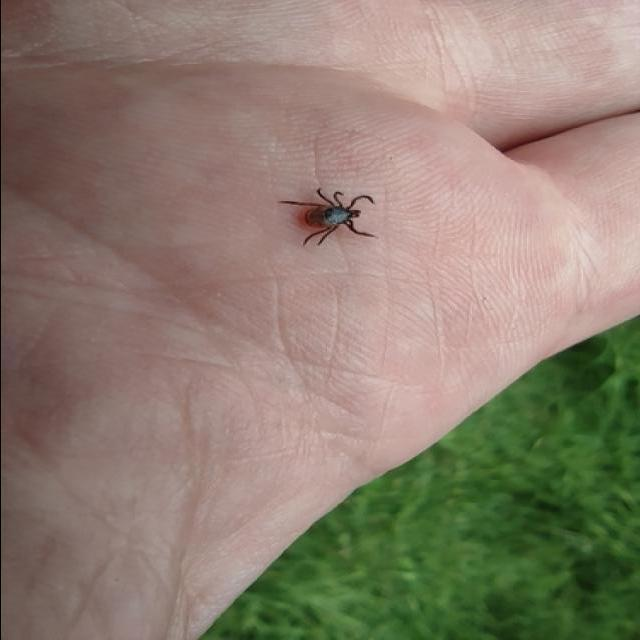Ixodes Ricinus-F: (275, 188, 377, 250)
